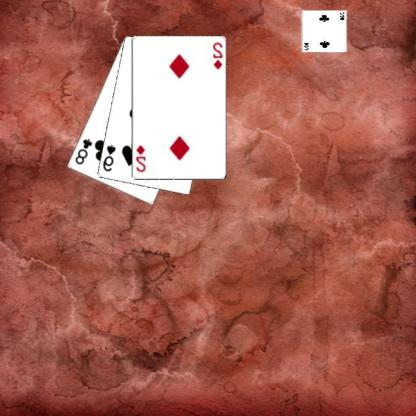2D: (135, 142, 148, 173), (212, 40, 225, 71)
6S: (102, 142, 118, 173)
8C: (74, 136, 95, 166)
